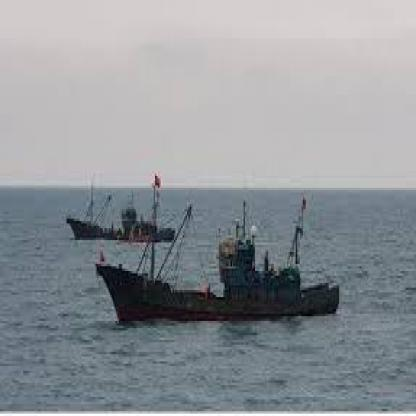fish-b: (93, 238, 351, 340), (55, 168, 186, 250)
